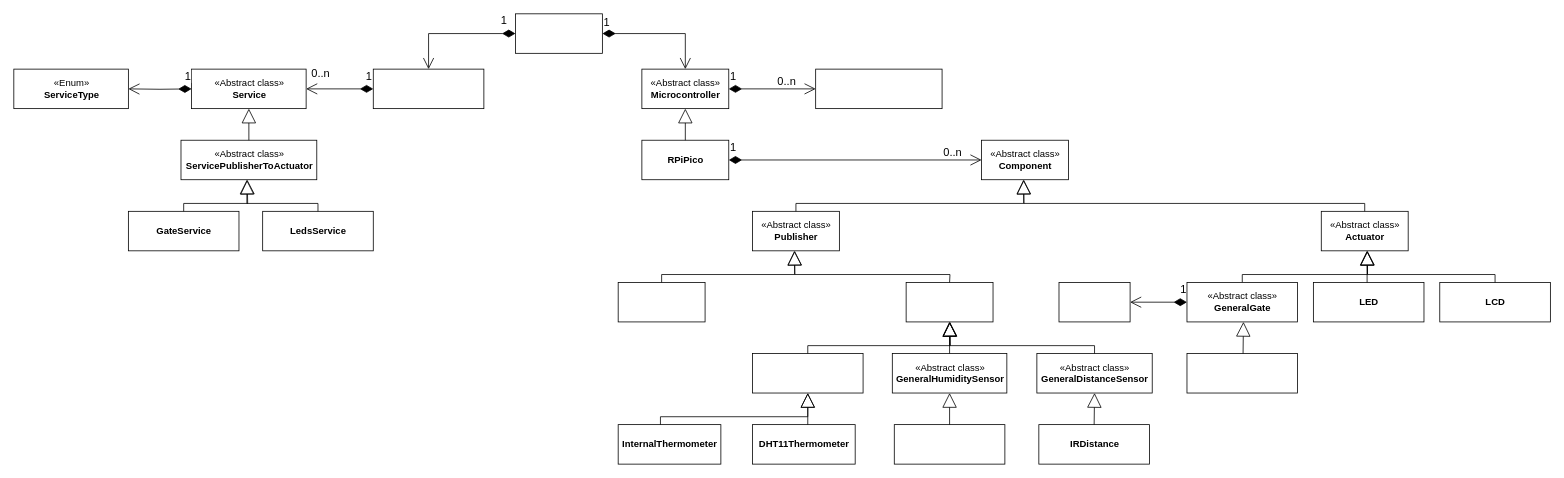
Image size: 1564x478. Some labels were removed from this diagram. The shapes that lost their labels are listed below. From the top down, each one's centre as x and y in pixels, then its label:
the point at 558,33: MAIN LOOP
the point at 428,88: ServiceSet
the point at 878,88: «Enum» ComponentResponseType
the point at 661,302: Button
the point at 949,302: «Abstract class» Sensor
the point at 1094,302: «Enum» GateState
the point at 807,373: «Abstract class» GeneralThermometer
the point at 1242,373: SG90Servo
the point at 949,444: DHT11HumiditySensor
